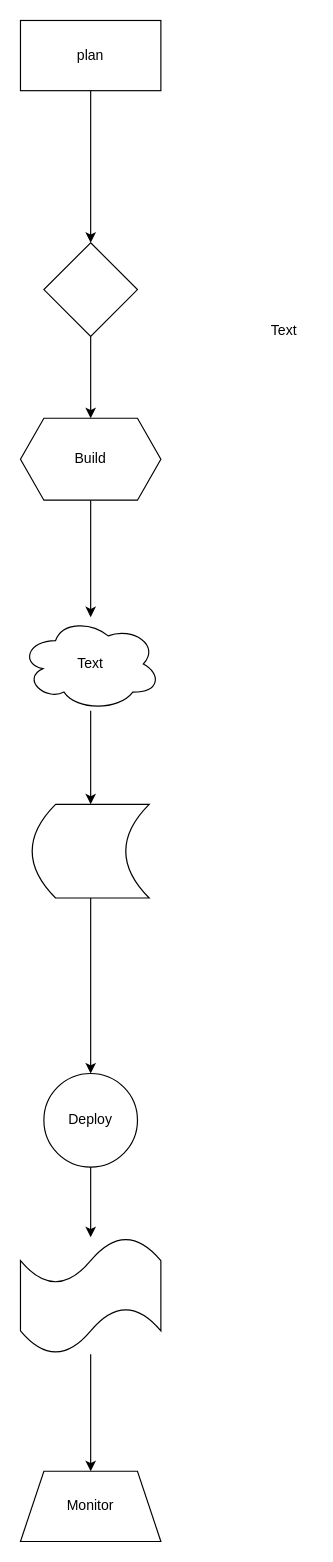
Some shapes in this 333 by 1562 pixel diagram are drawn without their labels. Each missing label, with the centre of its shape:
Develop: (90,289)
Operator: (90,1295)
Release: (90,850)
